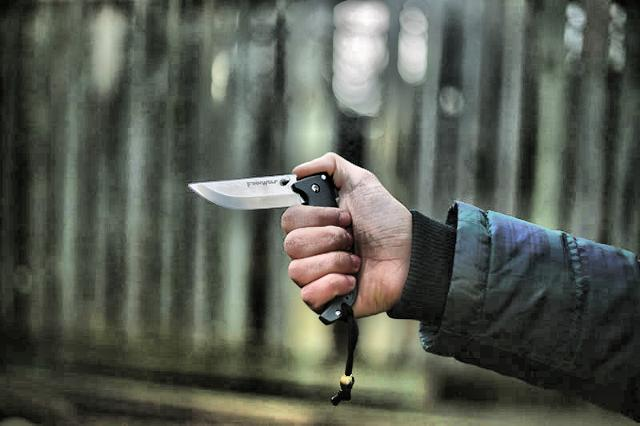knife: (174, 156, 342, 240)
